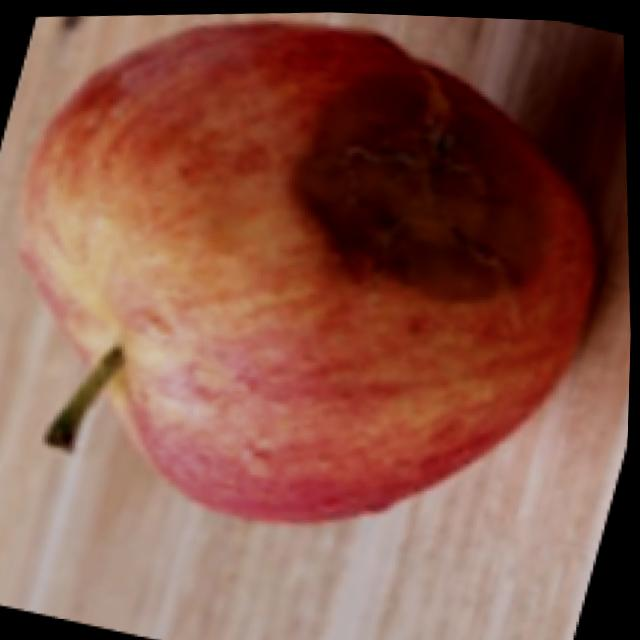organik: (15, 21, 553, 520)
